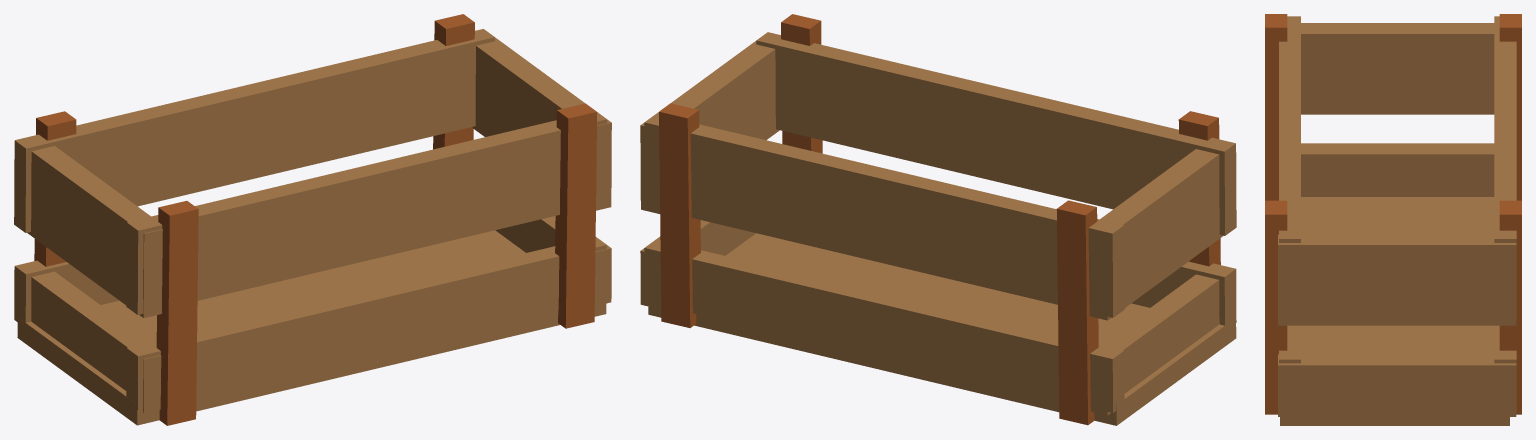
File: Crate_03.fbx
The picture shows the model from 3 angles, left to right: view 1: azimuth 30°, elevation 25°; view 2: azimuth 150°, elevation 25°; view 3: azimuth 270°, elevation 25°; orthographic projection. The views are drawn at different scales.
Visible parts, largest first — view 1: pCube59, pCube58, pCube39, pCube49, pCube60, pCube56, pCube54, pCube61, pCube41, pCube47, pCube52, pCube57 (+1 smaller); view 2: pCube59, pCube58, pCube52, pCube49, pCube60, pCube57, pCube55, pCube61, pCube41, pCube39, pCube56, pCube47 (+1 smaller); view 3: pCube61, pCube60, pCube49, pCube47, pCube41, pCube58, pCube59, pCube56, pCube54, pCube57, pCube55, pCube39 (+1 smaller).
Boxes of the visible parts, x1,y1,x2,y2 form: pCube59: (14,29,494,232); pCube58: (126,112,607,314); pCube39: (126,237,606,410); pCube49: (17,230,606,425); pCube60: (27,146,162,317); pCube56: (555,103,597,328); pCube54: (156,201,198,425); pCube61: (472,37,611,210); pCube41: (31,271,161,413); pCube47: (495,216,611,305); pCube52: (14,260,118,322); pCube57: (433,14,474,149); pCube59: (644,114,1124,317); pCube58: (756,32,1236,235); pCube52: (644,239,1124,412); pCube49: (648,233,1236,425); pCube60: (1089,149,1223,320); pCube57: (659,103,700,327); pCube55: (1056,200,1098,425); pCube61: (640,41,779,213); pCube41: (1091,274,1219,415); pCube39: (1131,261,1236,325); pCube56: (781,14,822,153); pCube47: (640,220,755,309); pCube61: (1278,233,1516,325); pCube60: (1301,23,1494,114); pCube49: (1280,197,1509,425); pCube47: (1278,354,1516,416); pCube41: (1301,143,1494,196); pCube58: (1279,16,1300,242); pCube59: (1494,16,1516,319); pCube56: (1265,200,1287,414); pCube54: (1265,14,1287,200); pCube57: (1499,200,1521,414); pCube55: (1499,14,1521,200); pCube39: (1279,325,1300,363).
Bounding box in the file's own units: 6.41 × 2.75 × 3.13.
